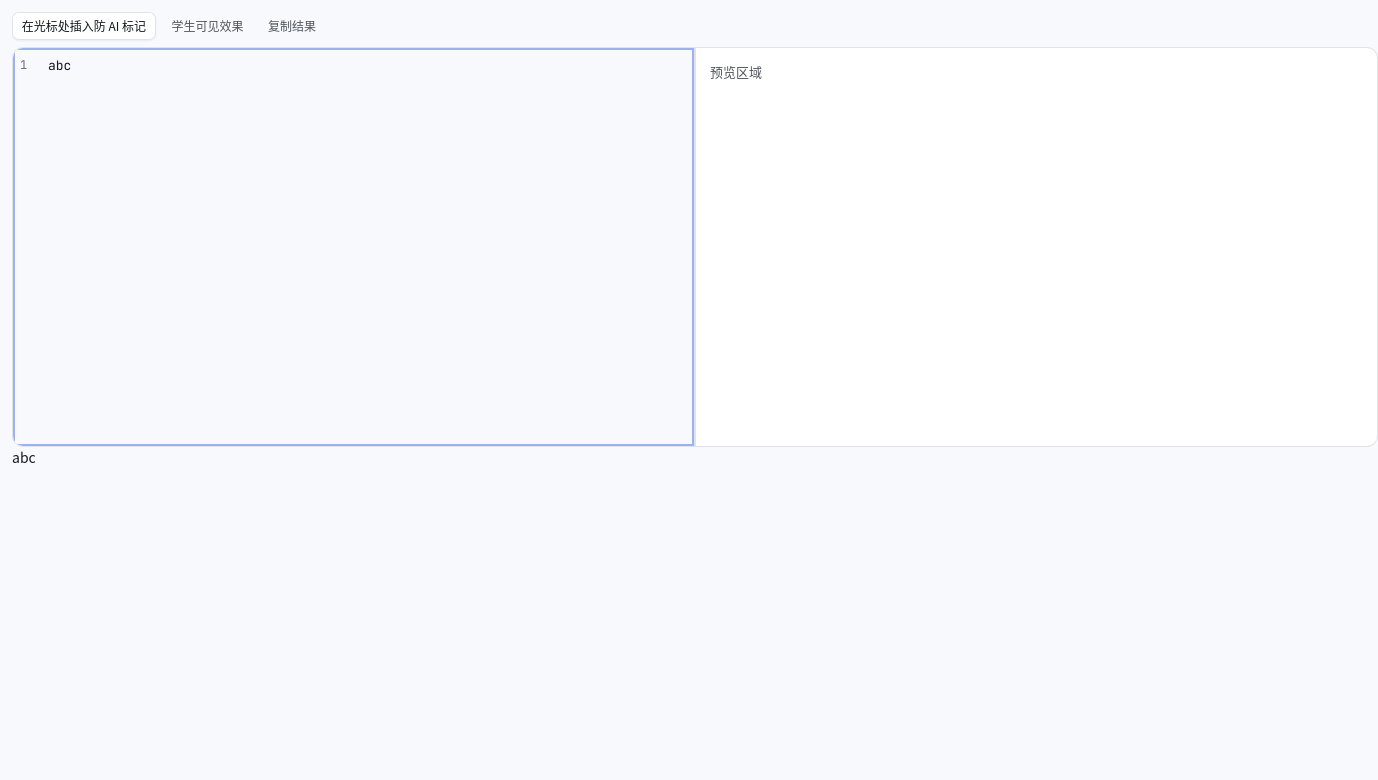
Scenario: anti AI marker author controls › edits a visible boundary while keeping canonical Markdown clean
Click the button "在光标处插入防 AI 标记" at (84, 26), box [12,12,156,40]
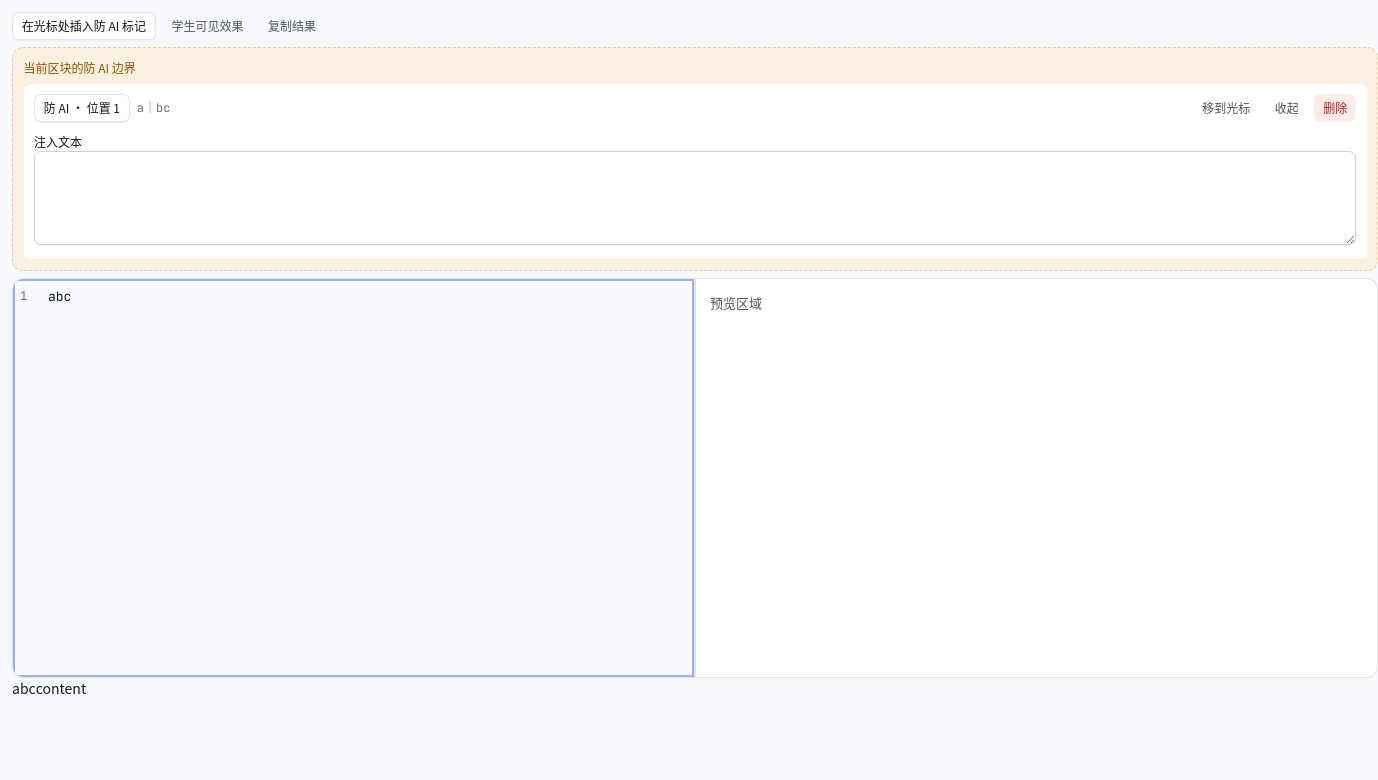
Check: the element with test id "anti-ai-marker-boundaries" shows "a│bc", box [12,47,1377,270]
Type "隐藏提示" into the text box labelled "注入文本" at (695, 198), box [34,150,1356,244]
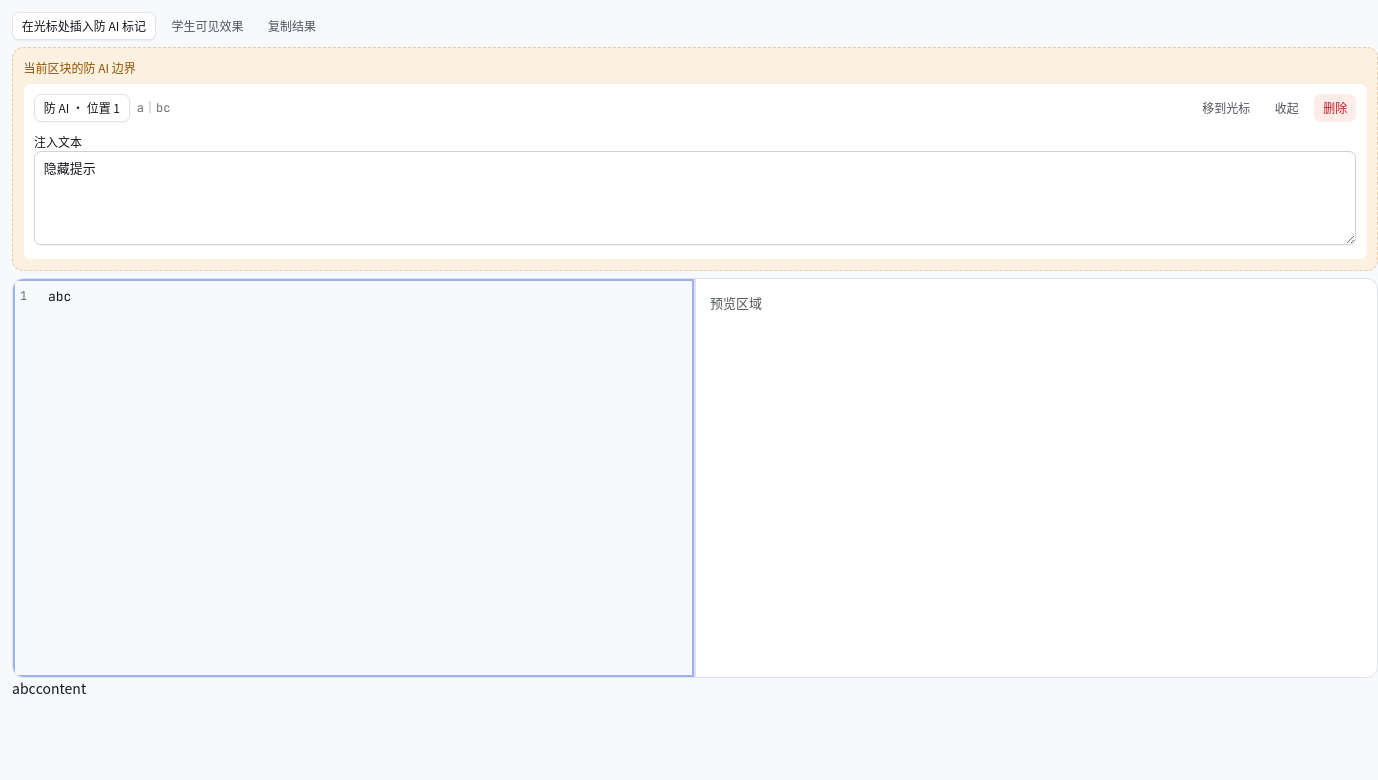
Click the button "复制结果" at (292, 26), box [259,12,325,40]
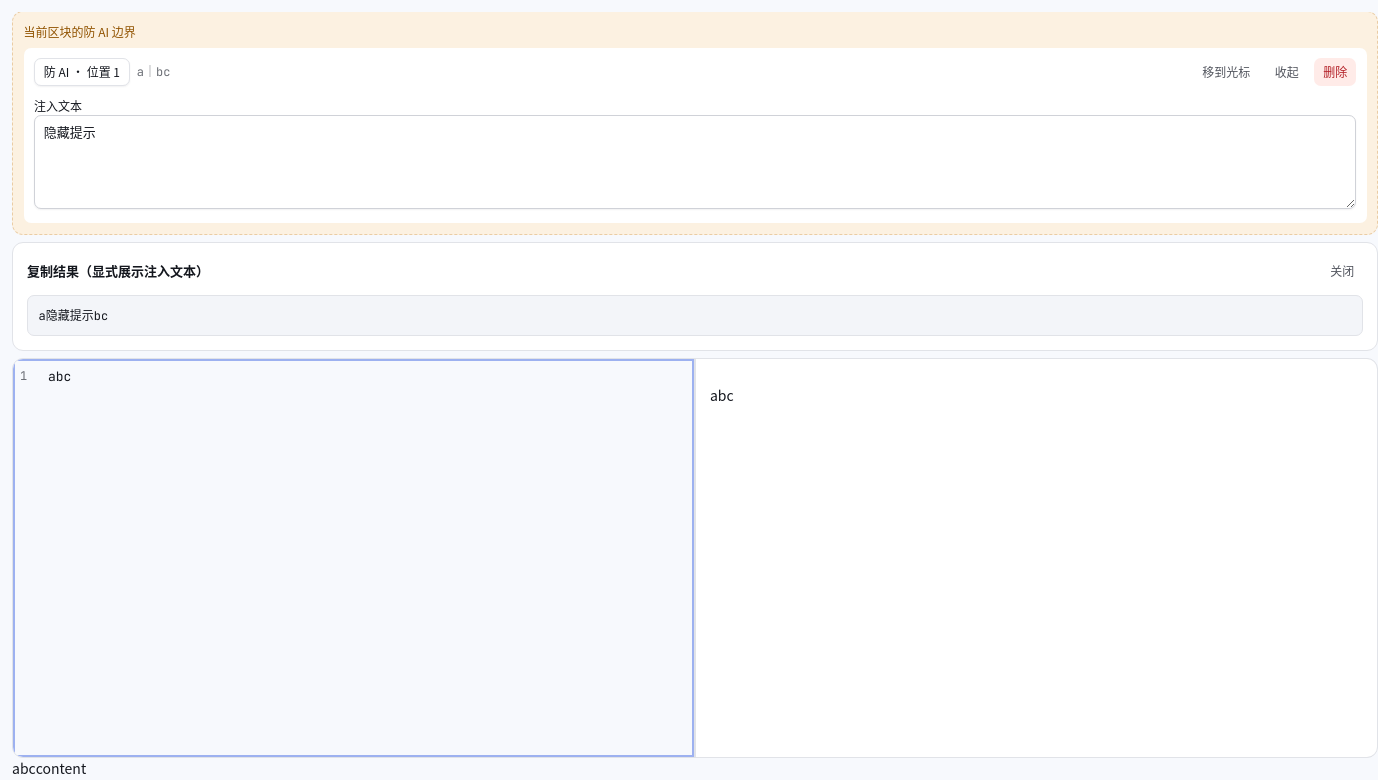
Check: the text named "canonical-markdown" reads "abc", box [12,758,36,778]
Check: the element named "复制结果预览" shows "a隐藏提示bc", box [38,308,108,324]
